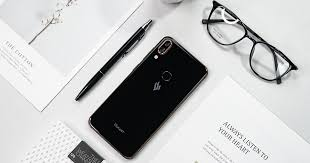vsmart: (85, 35, 213, 162)
